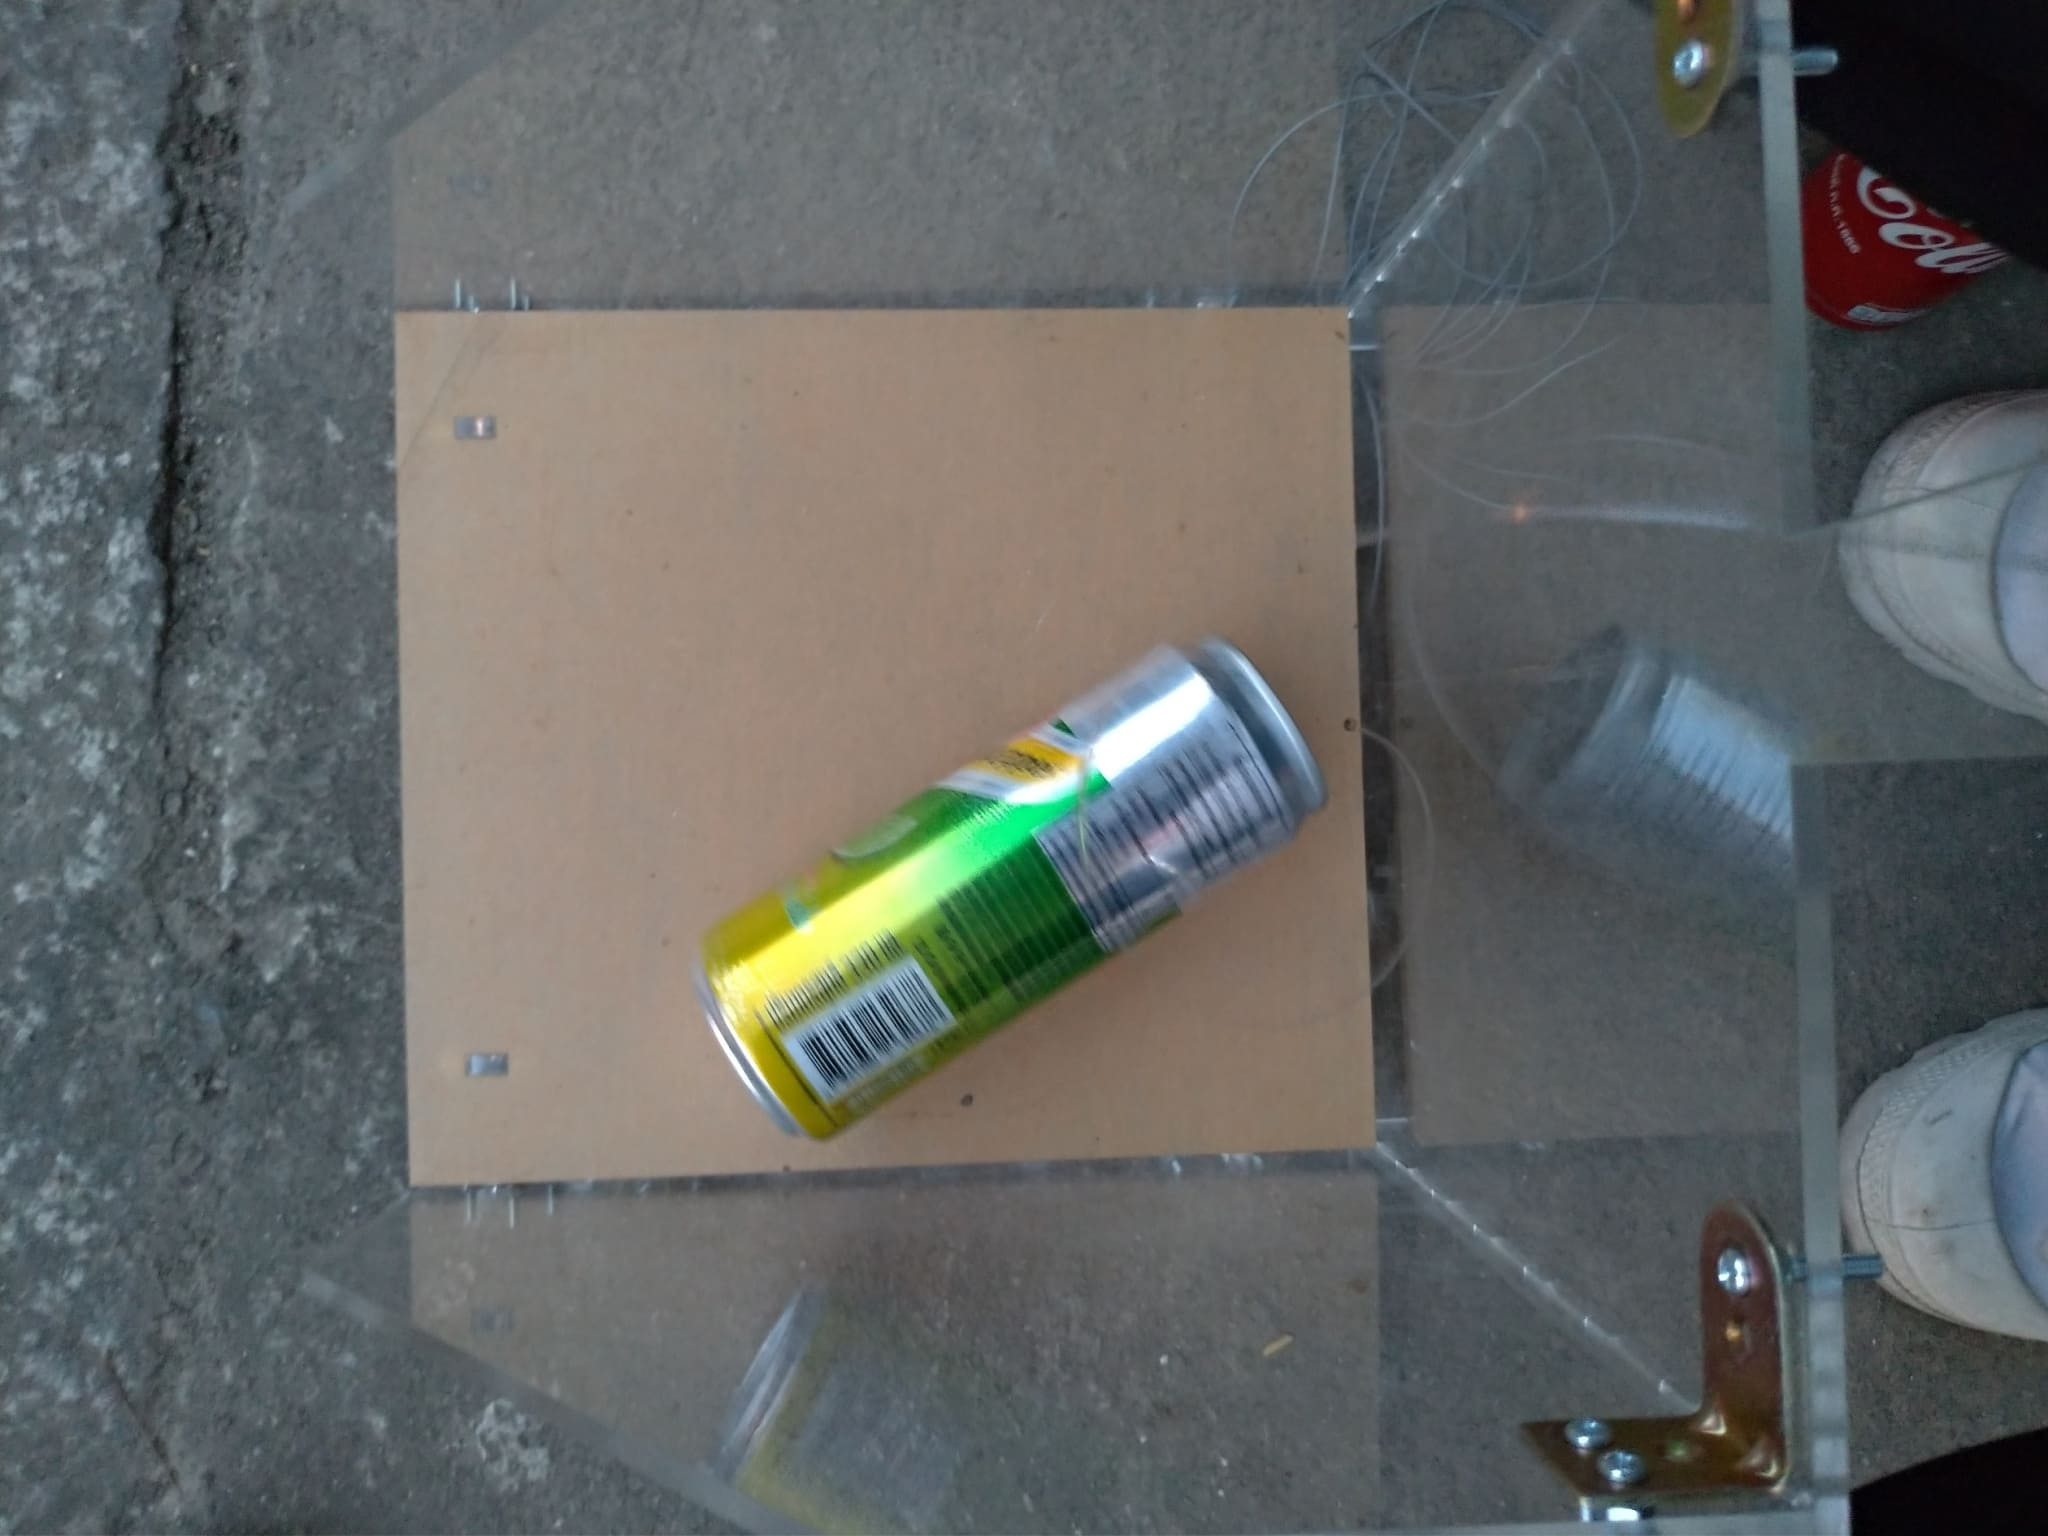AlCan: (706, 641, 1322, 1141), (1792, 118, 2016, 329)
